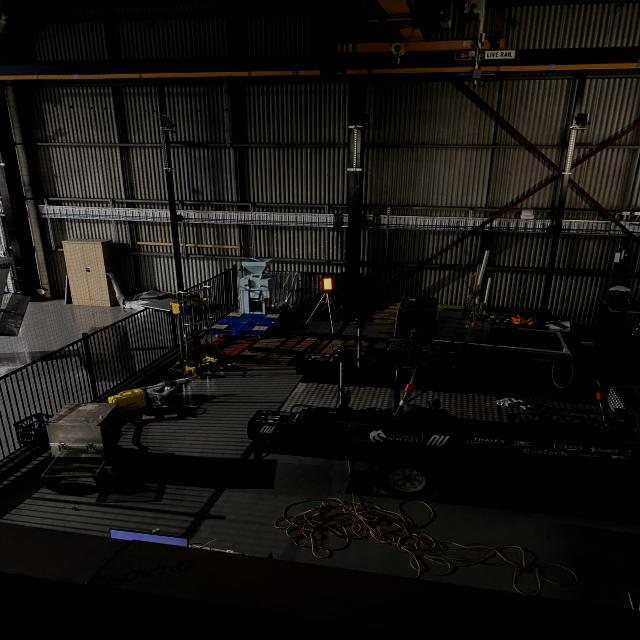matrix: (322, 278, 334, 290)
